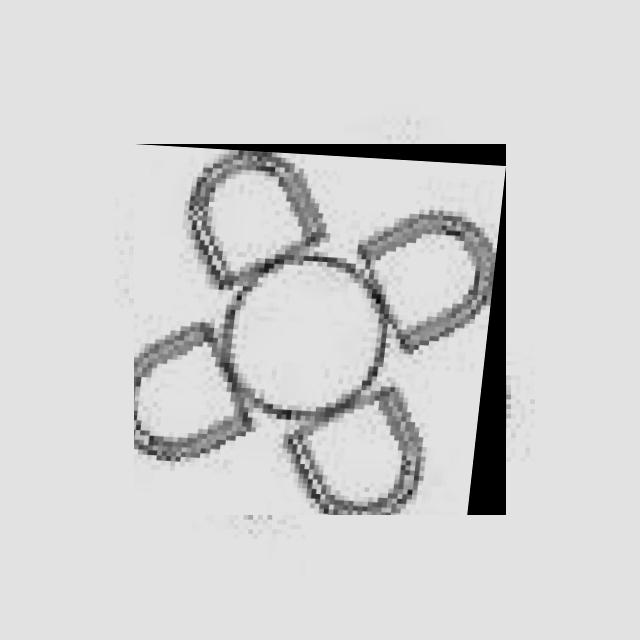table: (134, 144, 506, 515)
